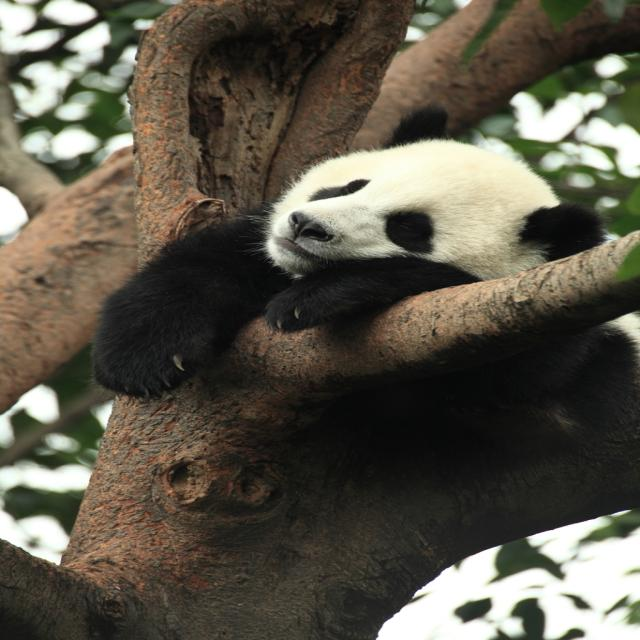panda: (88, 94, 640, 468)
